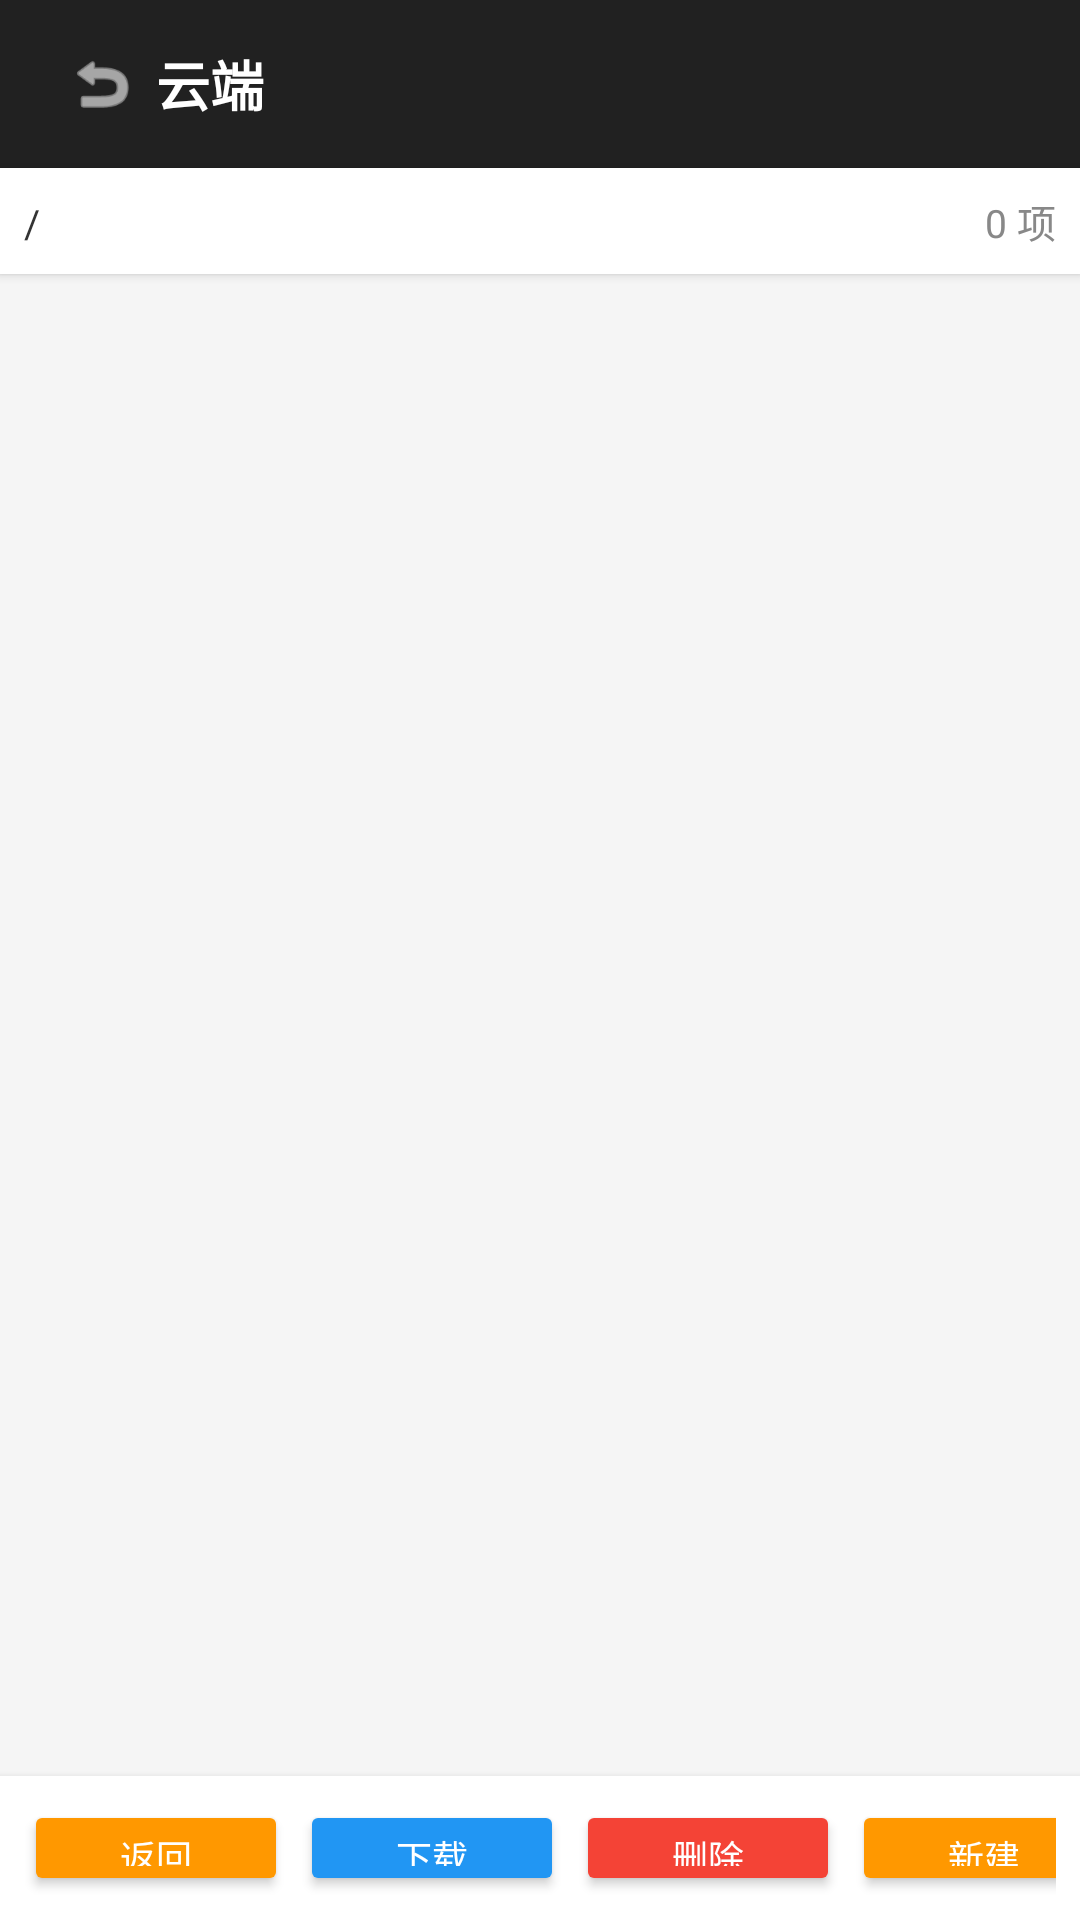

Named icons in this screenshot (1080*1920) and their centers, (x=x, y=y):
revert: (x=103, y=84)
